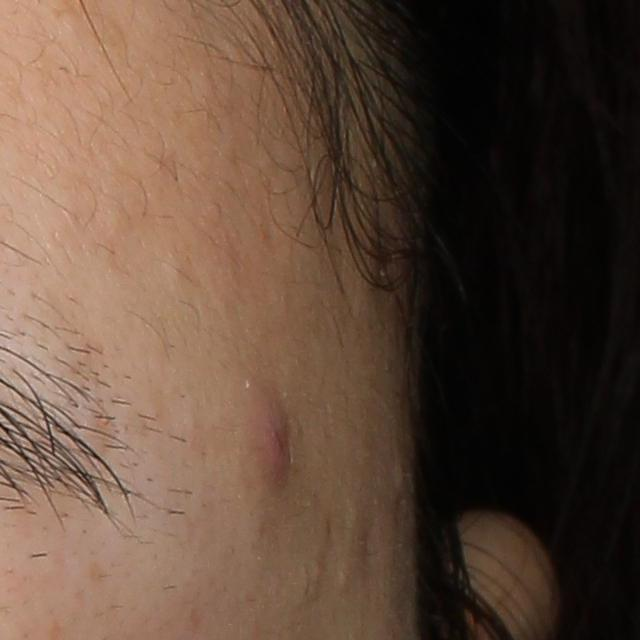papule: (245, 390, 296, 482)
